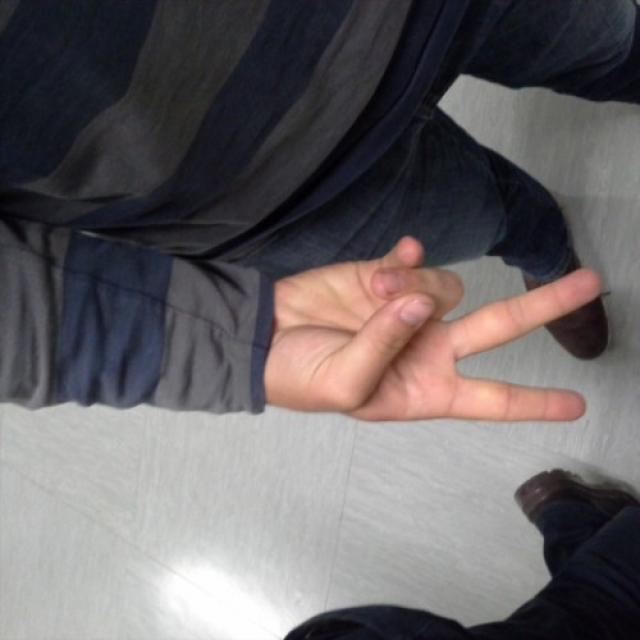scissors: (324, 234, 600, 420)
